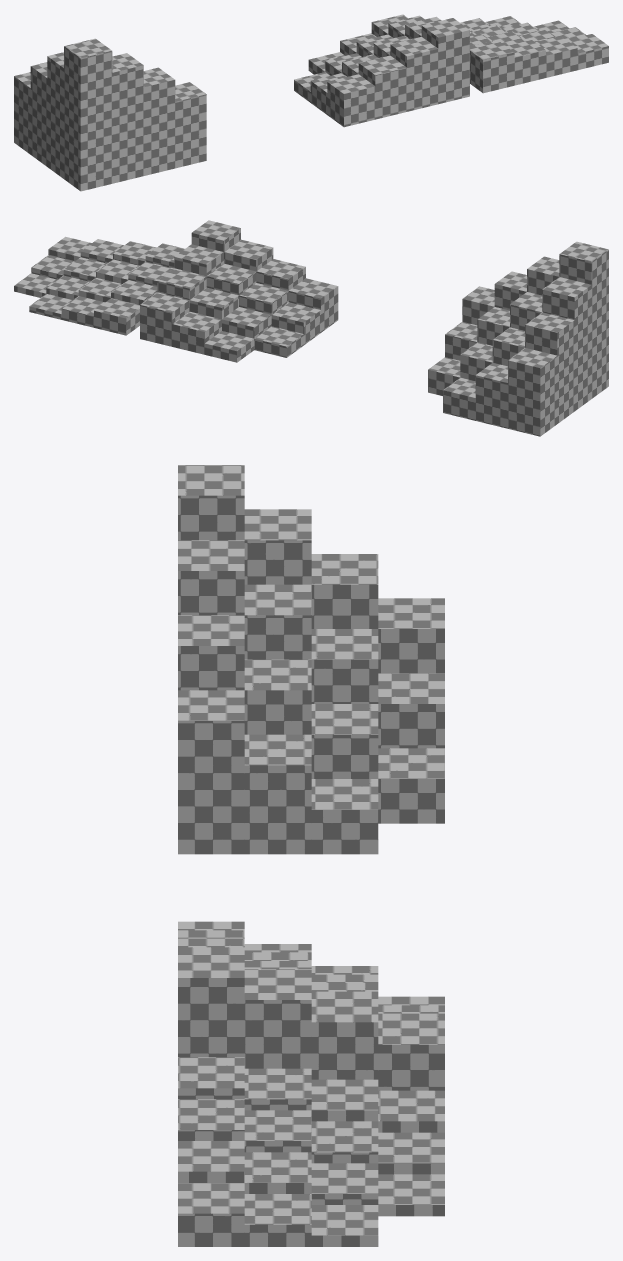
The model's file is EscalerasParaSaltos.obj.
3 renders of one model, top to bottom at view 1: azimuth 30°, elevation 25°; view 2: azimuth 150°, elevation 25°; view 3: azimuth 270°, elevation 25°, orthographic. The views are drawn at different scales.
Visible parts, largest first — view 1: Saltos; view 2: Saltos; view 3: Saltos.
Boxes of the visible parts, left/top/right/bottom form: Saltos: left=14, top=14, right=608, bottom=191; Saltos: left=14, top=220, right=608, bottom=436; Saltos: left=178, top=465, right=444, bottom=1246.
Size of the model in its own units: 49.82 by 12 by 10.91.
